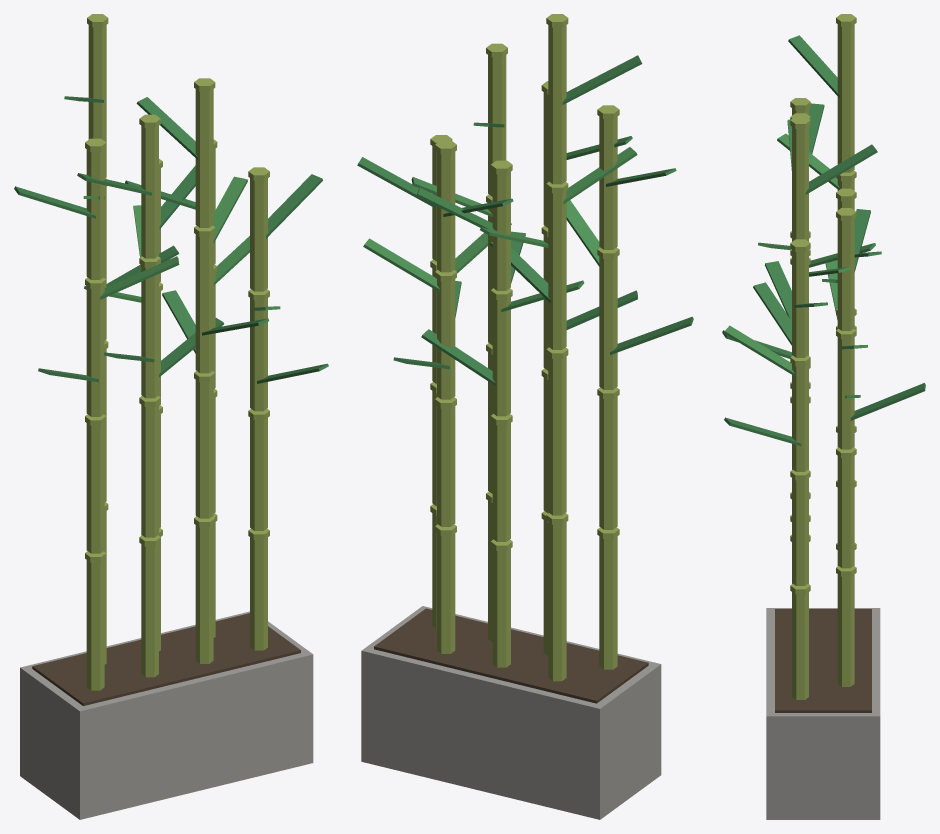
File: bamboo.glb
3 renders of one model, left to right at view 1: azimuth 30°, elevation 25°; view 2: azimuth 150°, elevation 25°; view 3: azimuth 270°, elevation 25°, orthographic. The views are drawn at different scales.
Visible parts, largest first — view 1: bamboo; view 2: bamboo; view 3: bamboo.
Boxes of the visible parts, x1,y1,x2,y2 form: bamboo: (14,14,328,819); bamboo: (357,14,693,819); bamboo: (722,14,925,819).
Bounding box in the file's own units: 1.18 × 2.79 × 0.7136.
